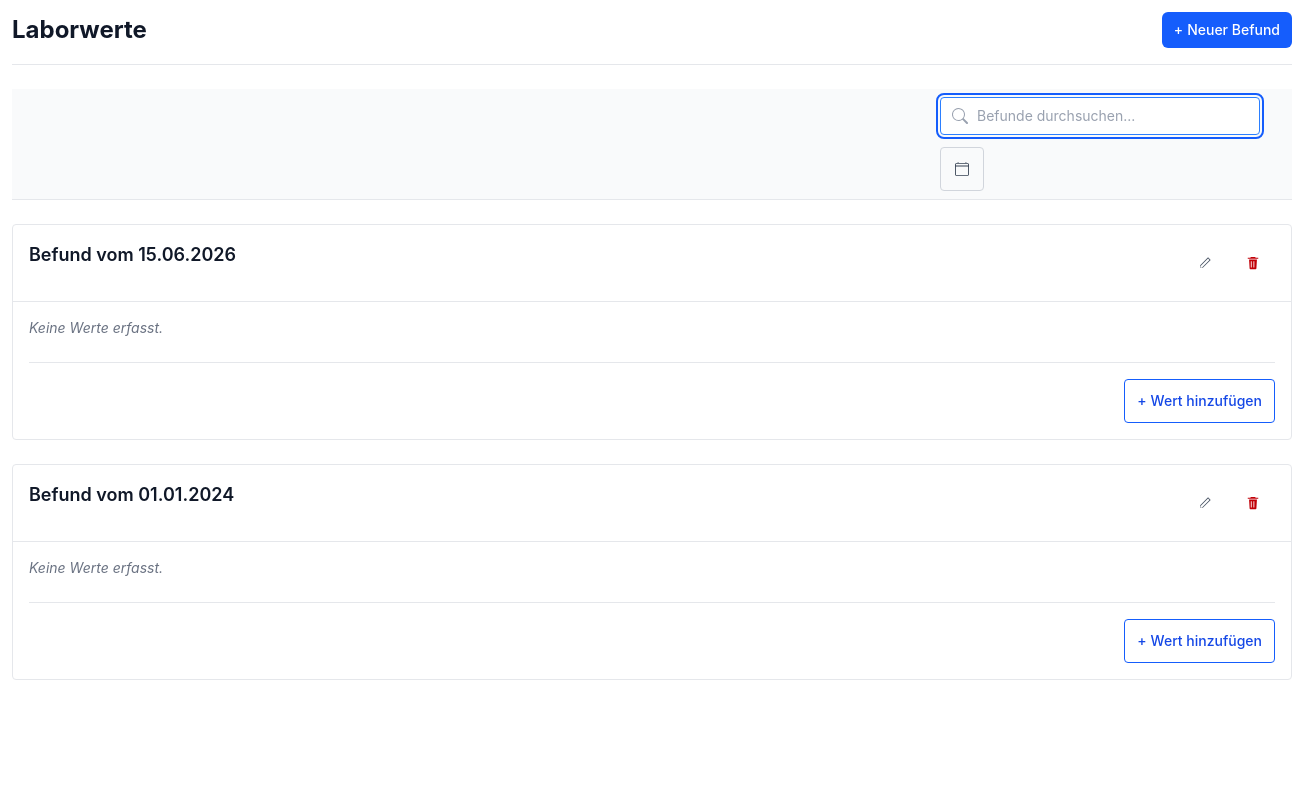
Test: LabValuesView › date range filter (O-18) › renders the date range filter only after the user opens Stage 2 via the calendar toggle
The width and height of the screenshot is (1304, 812).
Click the button with test id "calendar-toggle": (962, 169) [940, 147, 984, 191]
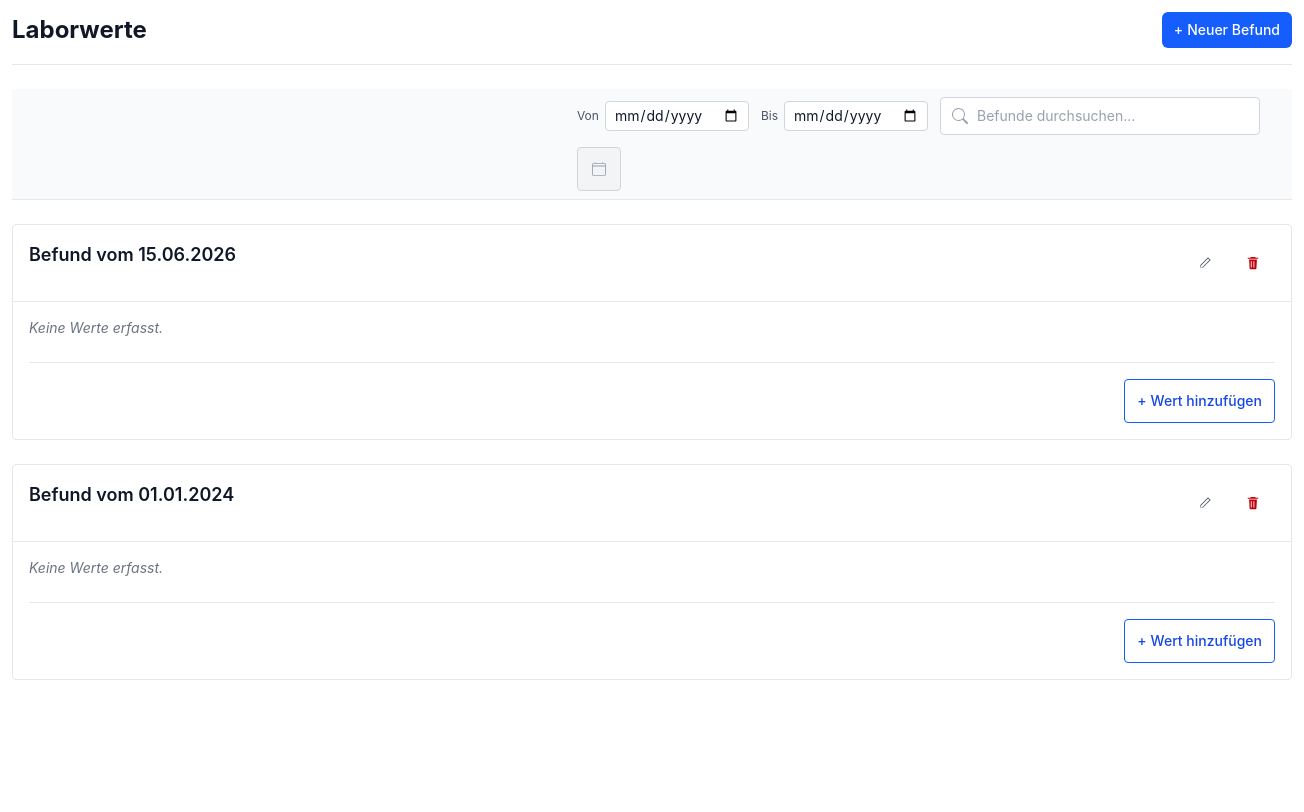
Expected: the element with test id "date-range-filter" is shown, [577, 101, 928, 131]
Expected: the date field with test id "date-range-filter-from" is shown, [605, 101, 749, 131]
Expected: the date field with test id "date-range-filter-to" is shown, [784, 101, 928, 131]
